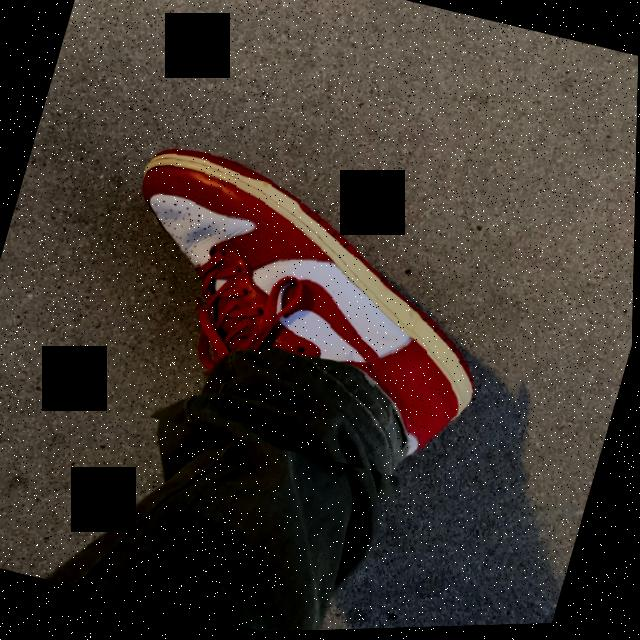shoe: (24, 71, 587, 515)
